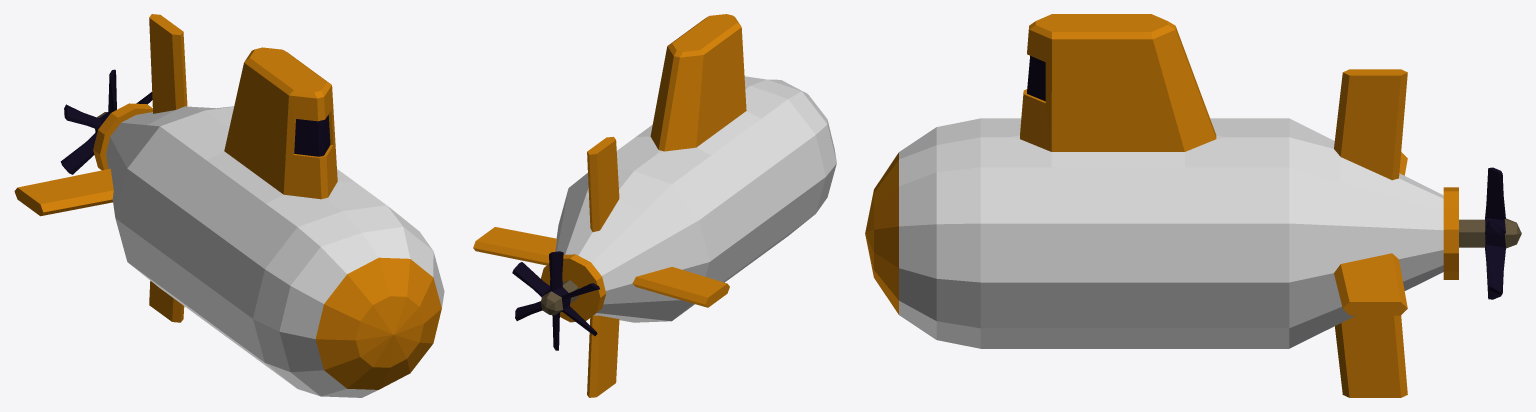
Rendered from submarine.glb.
The picture shows the model from 3 angles, left to right: view 1: azimuth 30°, elevation 25°; view 2: azimuth 150°, elevation 25°; view 3: azimuth 270°, elevation 25°; orthographic projection. The views are drawn at different scales.
Parts seen in each view (by area): view 1: submarine, propeller; view 2: submarine, propeller; view 3: submarine, propeller.
Part boxes in pixels (x1=…): submarine: x1=14, y1=14, x2=444, y2=397; propeller: x1=60, y1=69, x2=152, y2=174; submarine: x1=473, y1=14, x2=836, y2=397; propeller: x1=512, y1=251, x2=599, y2=350; submarine: x1=865, y1=14, x2=1458, y2=397; propeller: x1=1459, y1=167, x2=1521, y2=299.
Size of the model in its own units: 4.61 by 5.32 by 8.52.
